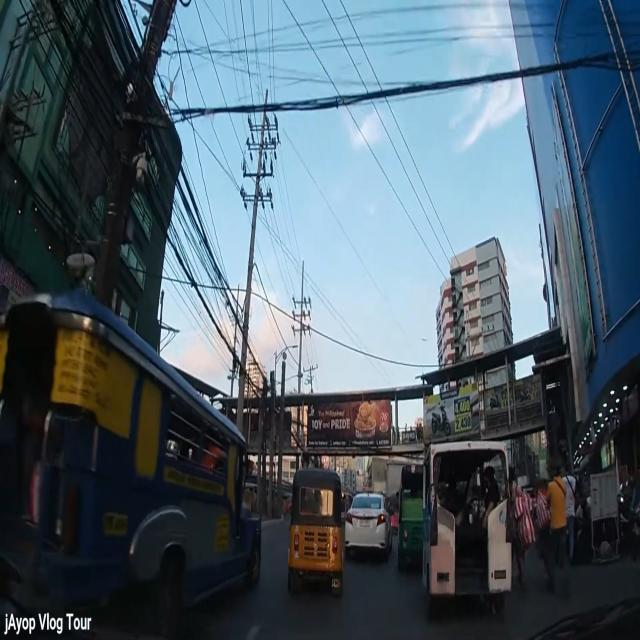car: (344, 490, 390, 562)
jeepney: (1, 294, 263, 640)
tricycle: (423, 440, 512, 624), (286, 466, 345, 596), (576, 471, 620, 564), (396, 464, 426, 572)
